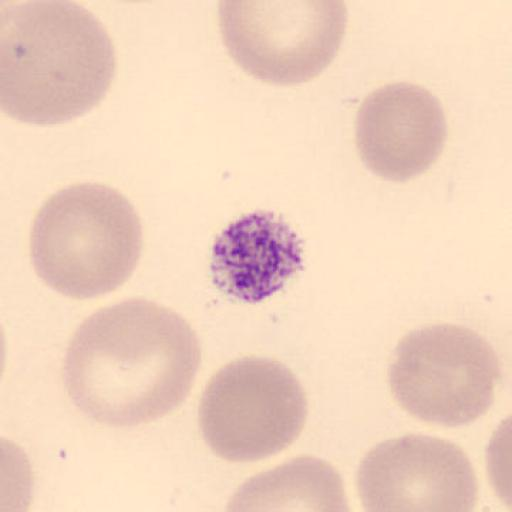Platelet: (205, 206, 311, 306)
RBC: (62, 296, 201, 428), (0, 0, 117, 128), (26, 179, 146, 303), (384, 320, 502, 430), (196, 354, 310, 464), (215, 0, 350, 89), (352, 79, 450, 185), (353, 431, 479, 512), (222, 453, 353, 512), (483, 411, 512, 511), (2, 434, 36, 512)
